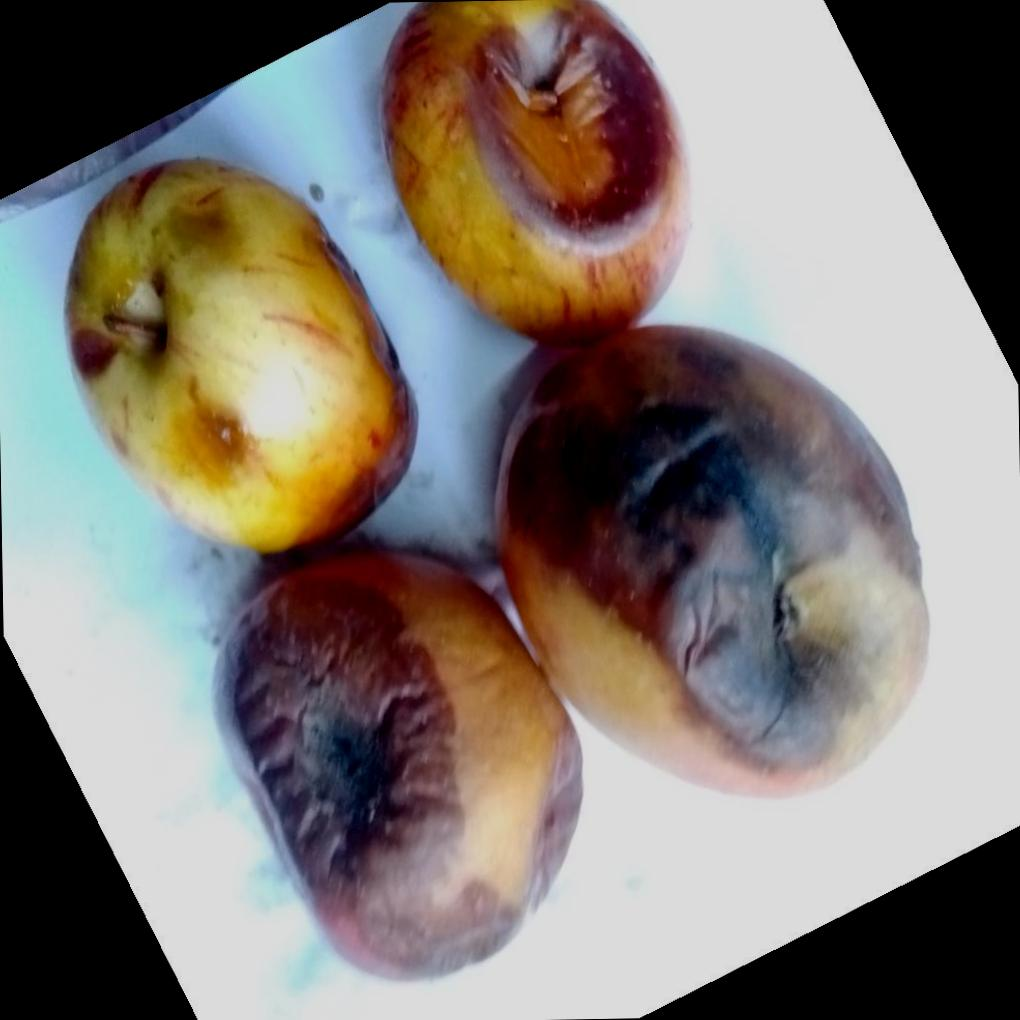FreshOrange: (59, 15, 880, 940)
